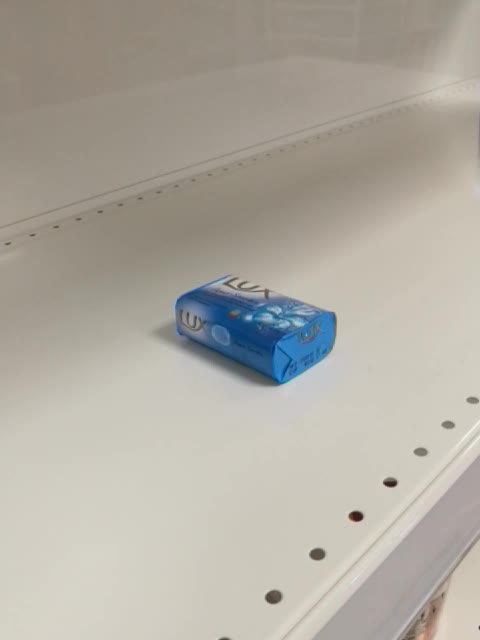soap: (173, 274, 338, 387)
